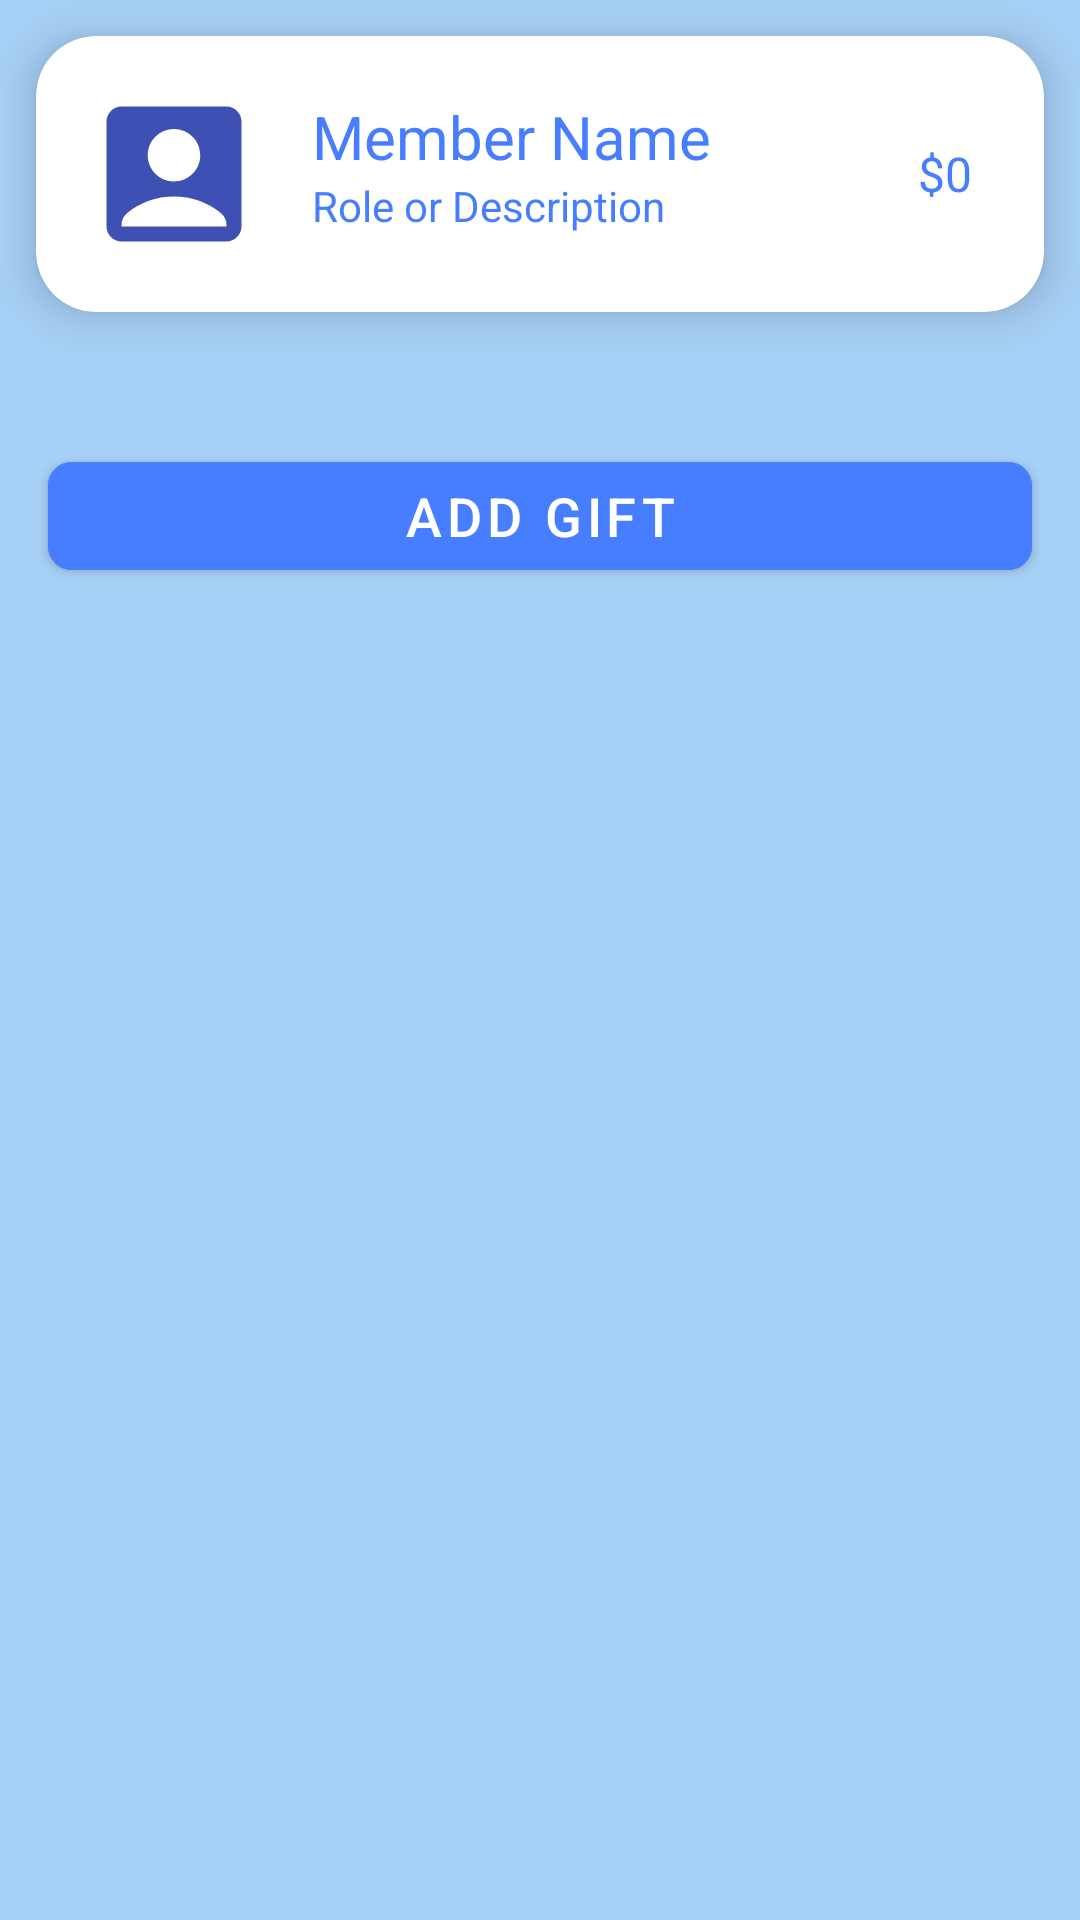

Icons on this 1080px x 1920px Android screen, each with the point to tap as (x,y):
account box: (174,174)
